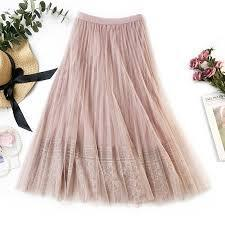skirt: (24, 12, 197, 204)
